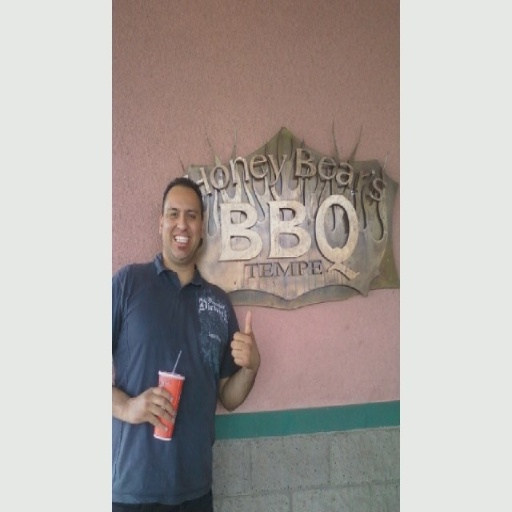hand: (126, 386, 177, 435), (230, 310, 259, 371)
